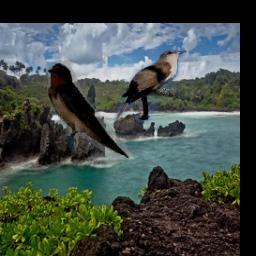Cuckoo: (112, 50, 188, 127)
Swallow: (45, 61, 129, 160)
